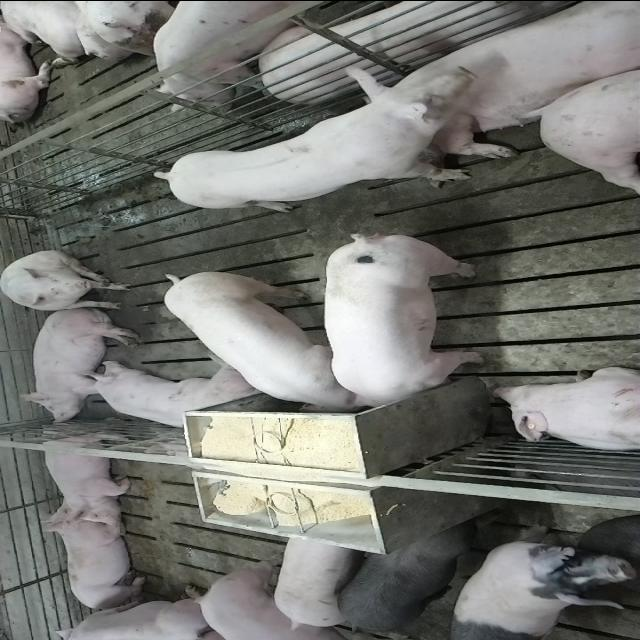Feeding: (160, 264, 366, 412), (322, 227, 486, 409)
Lateral_lying: (15, 306, 142, 424)
Sitting: (1, 250, 134, 312)
Standing: (158, 61, 488, 211), (156, 0, 350, 102), (337, 516, 495, 638), (453, 533, 598, 636), (189, 565, 345, 640), (274, 532, 358, 628)
Sternal_lying: (366, 0, 634, 150), (490, 365, 640, 453), (72, 365, 260, 433), (43, 510, 148, 612), (37, 424, 137, 527)
